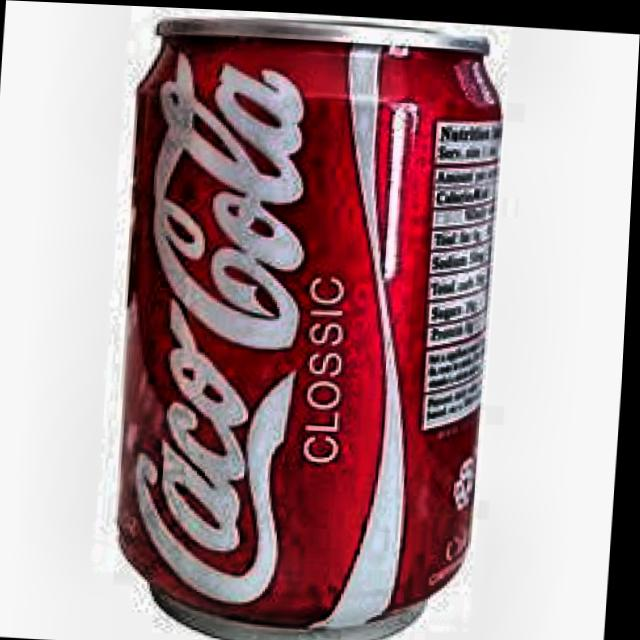Cans: (86, 4, 548, 640)
